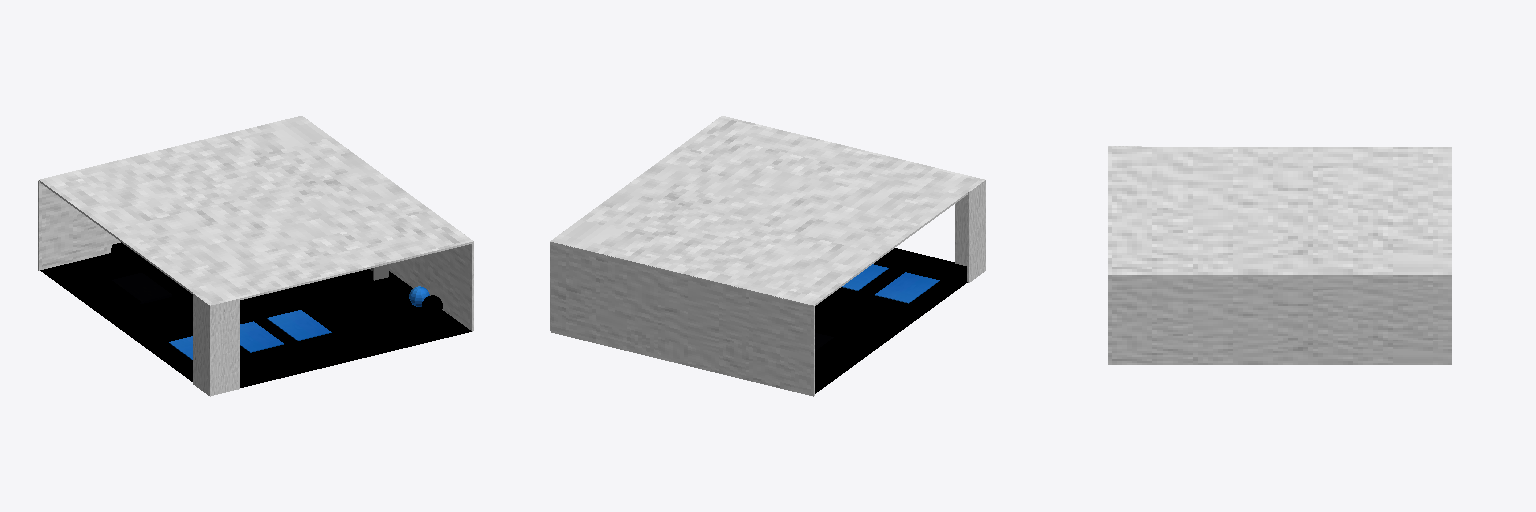
The picture shows the model from 3 angles: view 1: azimuth 30°, elevation 25°; view 2: azimuth 150°, elevation 25°; view 3: azimuth 270°, elevation 25°; orthographic projection.
Size of the model in its own units: 7.59 by 2.5 by 8.56.
Materials: 10 (3 with a texture image).